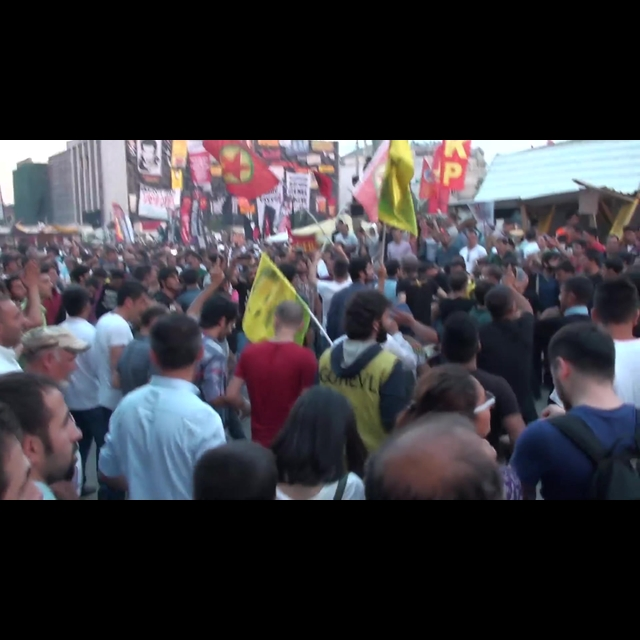PKK: (217, 147, 255, 187)
